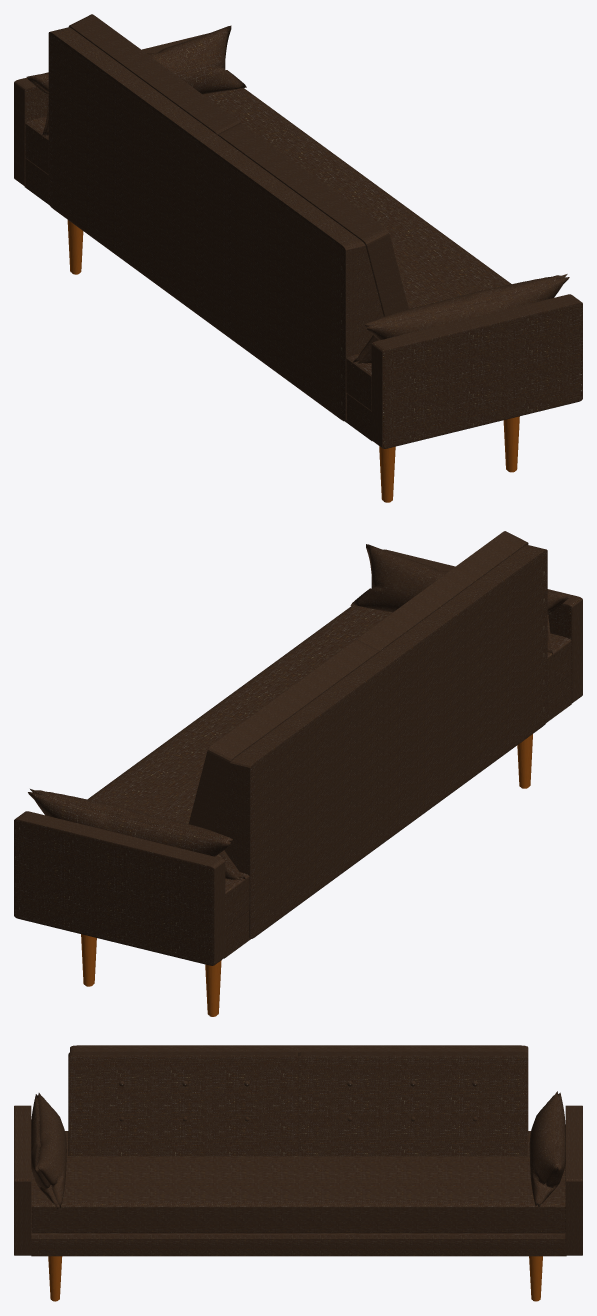
The model's file is Percy2git.glb.
The picture shows the model from 3 angles, top to bottom: view 1: azimuth 30°, elevation 25°; view 2: azimuth 150°, elevation 25°; view 3: azimuth 270°, elevation 25°; orthographic projection. The views are drawn at different scales.
Parts seen in each view (by area): view 1: Cylinder.005, Cylinder.001; view 2: Cylinder.005, Cylinder.001; view 3: Cylinder.005, Cylinder.001.
Part boxes in pixels (x1,y1,x2,y2): Cylinder.005: (14,14,582,448); Cylinder.001: (67,220,519,502); Cylinder.005: (14,531,582,965); Cylinder.001: (81,734,532,1016); Cylinder.005: (14,1045,582,1256); Cylinder.001: (48,1256,542,1301).
Size of the model in its own units: 0.9276 by 1.13 by 2.9.
2 materials, 2 textured.
